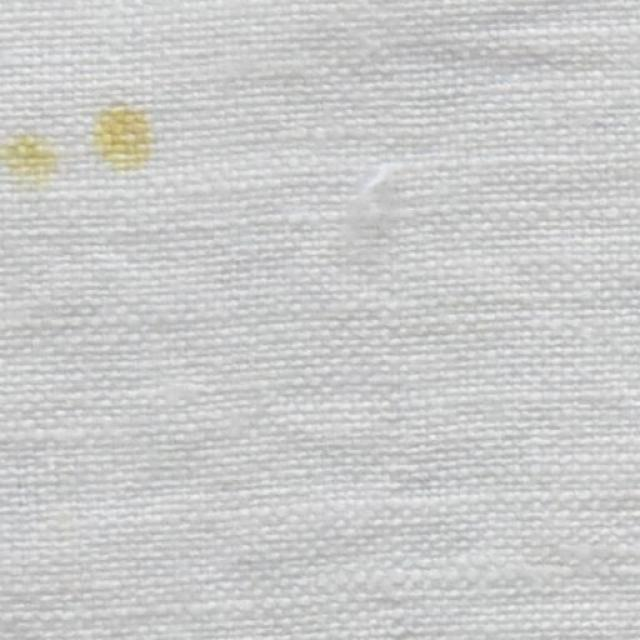Knot: (354, 162, 396, 227)
Stain: (95, 106, 150, 169), (0, 135, 58, 188)
